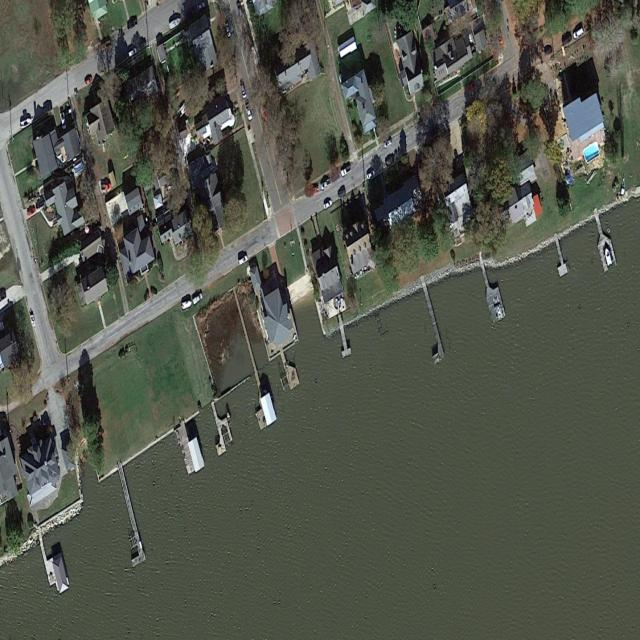ship: (168, 15, 184, 32), (19, 116, 34, 132), (180, 298, 193, 312), (604, 246, 612, 267)
small-vehicle: (319, 176, 332, 193), (572, 26, 586, 41), (192, 291, 204, 307), (237, 253, 249, 268), (245, 104, 254, 123), (340, 165, 353, 178), (99, 38, 111, 52), (127, 16, 138, 31), (562, 33, 573, 48), (59, 111, 67, 131), (322, 198, 334, 211), (465, 81, 477, 94), (496, 26, 504, 45), (240, 83, 248, 101), (29, 312, 37, 330), (127, 46, 138, 59), (83, 75, 94, 88), (383, 137, 394, 150), (100, 182, 112, 193), (365, 169, 376, 181), (543, 45, 553, 58), (385, 155, 395, 168), (225, 23, 232, 39), (26, 206, 36, 217), (337, 189, 347, 199)
